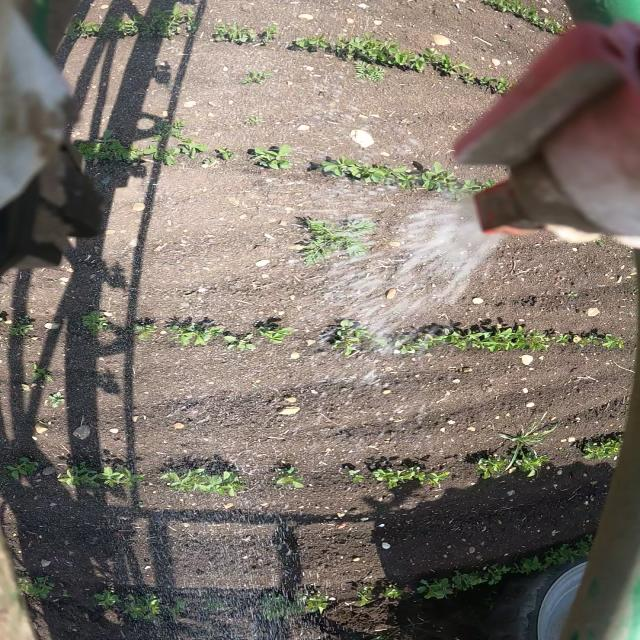plants: (277, 212, 381, 262), (312, 317, 374, 362), (69, 131, 143, 165), (423, 325, 490, 356), (158, 314, 219, 347), (572, 433, 628, 465), (494, 422, 551, 453), (145, 7, 198, 40), (212, 23, 279, 49), (490, 324, 549, 353), (406, 159, 452, 194), (66, 304, 115, 336), (282, 29, 338, 57), (423, 45, 467, 79), (368, 465, 425, 491), (246, 144, 300, 171), (338, 27, 383, 59), (155, 464, 204, 493), (96, 463, 145, 492), (467, 68, 514, 98), (464, 564, 526, 586), (310, 155, 362, 181), (253, 320, 301, 348), (349, 584, 408, 606), (63, 13, 111, 40), (121, 592, 164, 622), (386, 39, 425, 72), (408, 580, 472, 600), (56, 459, 94, 492), (260, 594, 308, 620), (128, 314, 168, 344), (200, 469, 248, 494), (569, 329, 625, 350), (361, 161, 407, 186), (513, 453, 554, 481), (19, 361, 63, 387), (558, 533, 601, 559), (469, 454, 511, 480), (147, 118, 192, 142), (0, 316, 41, 342), (482, 0, 541, 18), (344, 60, 388, 84), (3, 454, 42, 480), (518, 551, 562, 573), (271, 465, 310, 489), (528, 18, 579, 36), (220, 327, 253, 354), (15, 576, 52, 600), (396, 326, 425, 356), (452, 177, 495, 196), (113, 15, 148, 38), (141, 142, 179, 163), (306, 591, 340, 614), (194, 592, 234, 610), (235, 69, 274, 87), (176, 142, 208, 161), (93, 587, 119, 610), (165, 596, 187, 620), (41, 391, 72, 408), (424, 470, 448, 490), (207, 145, 235, 161), (345, 467, 365, 485), (240, 113, 265, 127), (550, 331, 572, 346)
